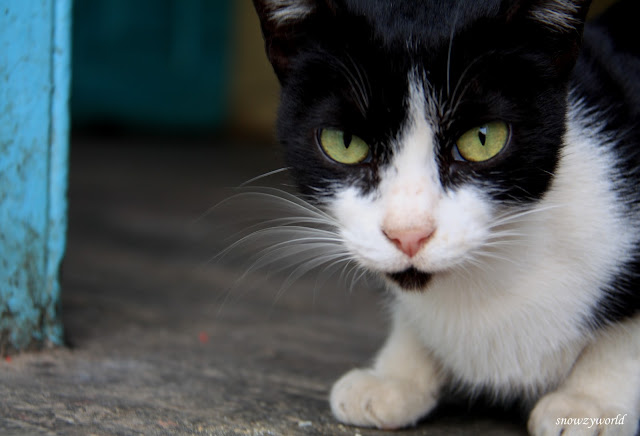cat: (258, 1, 640, 433)
